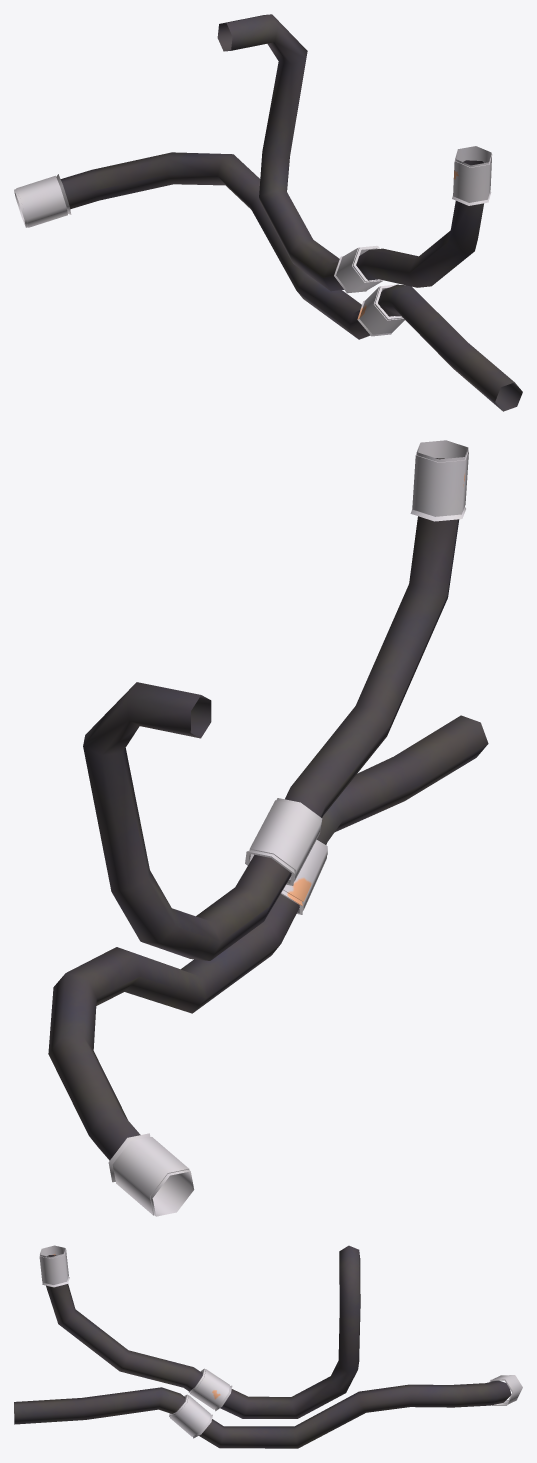
File: Pipes_4.fbx
3 views of the same model, one above another, from view 1: azimuth 30°, elevation 25°; view 2: azimuth 150°, elevation 25°; view 3: azimuth 270°, elevation 25° (orthographic). The views are drawn at different scales.
Parts seen in each view (by area): view 1: Pipes_4; view 2: Pipes_4; view 3: Pipes_4.
Part boxes in pixels (x1=…): Pipes_4: x1=14, y1=14, x2=522, y2=411; Pipes_4: x1=48, y1=440, x2=488, y2=1216; Pipes_4: x1=14, y1=1245, x2=522, y2=1448.
Bounding box in the file's own units: 93.82 × 135 × 320.
